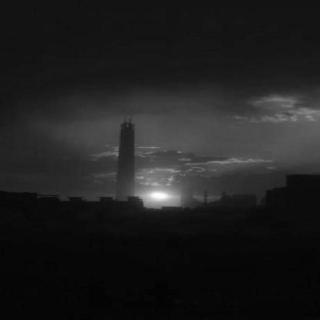other: (140, 184, 192, 206)
